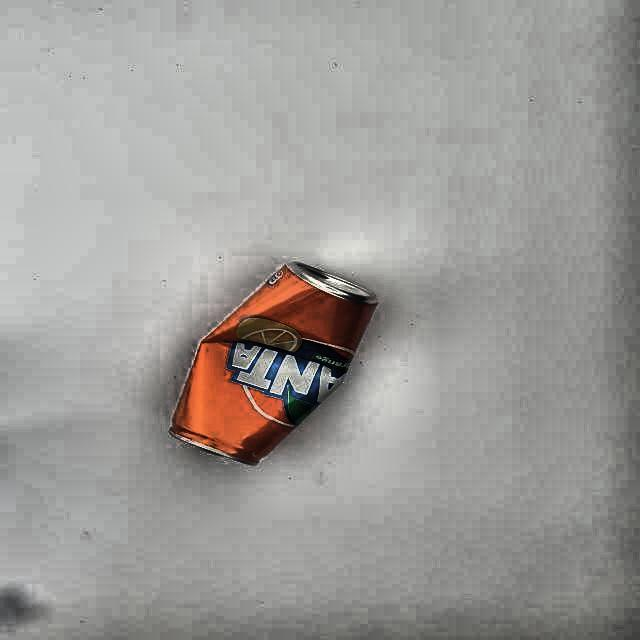metal: (169, 264, 379, 468)
